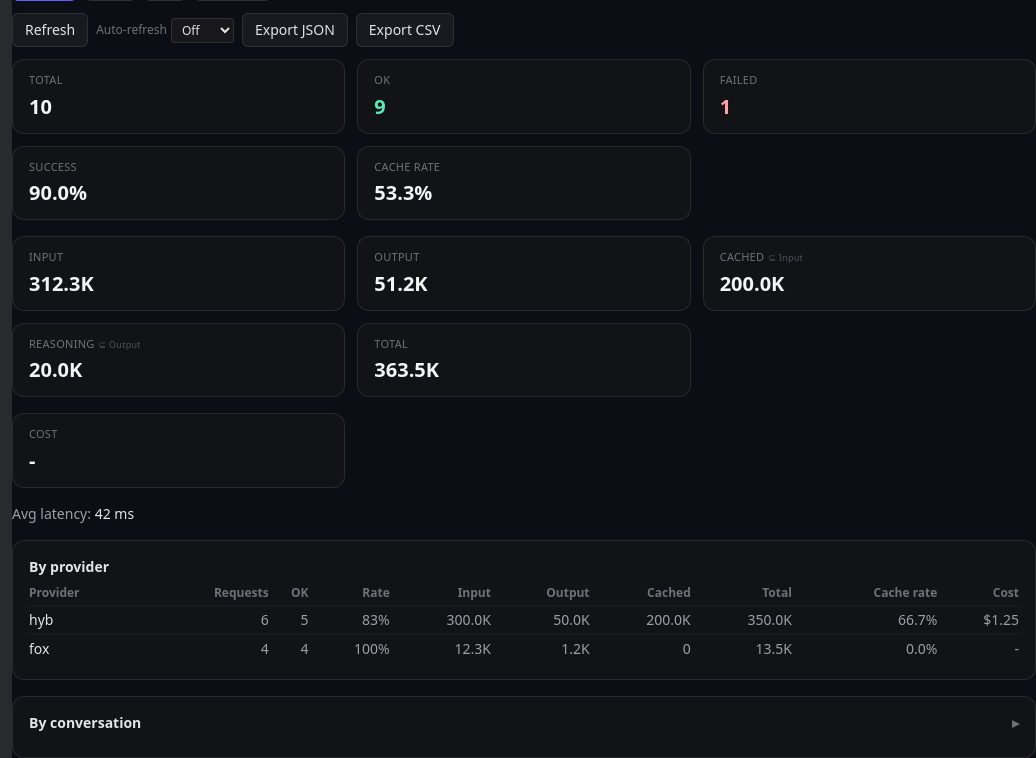
Scenario: StatsPanel › renders token cards, provider token column and the conversation table
This screenshot has width=1036, height=758.
(page scrolled)
Expected: the text "363.5K" is shown, [374,356,439,383]
Expected: the text "53.3%" is shown, [374,179,432,206]
Click the button "By conversation ▸" at [85, 722], box [29,712,1019,732]
(page scrolled)
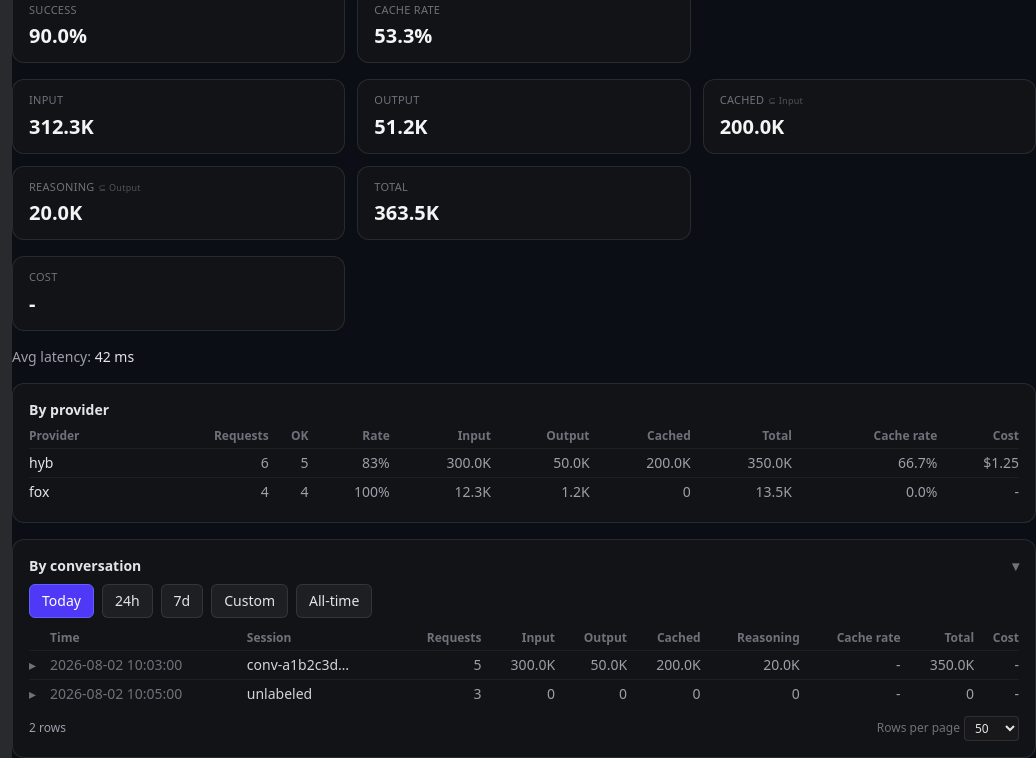
Now the button "conv-a1b2c3d…" is shown, box [247,654,349,674]
Now the button "unlabeled" is shown, box [247,684,312,704]
Now the text "5" in the row of "2026-08-02 10:03:00" is shown, box [474,654,482,674]
